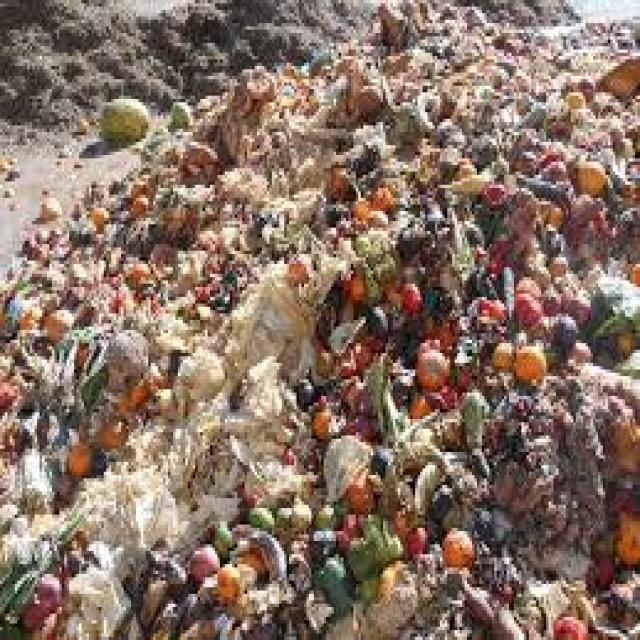food_waste: (23, 84, 589, 592)
